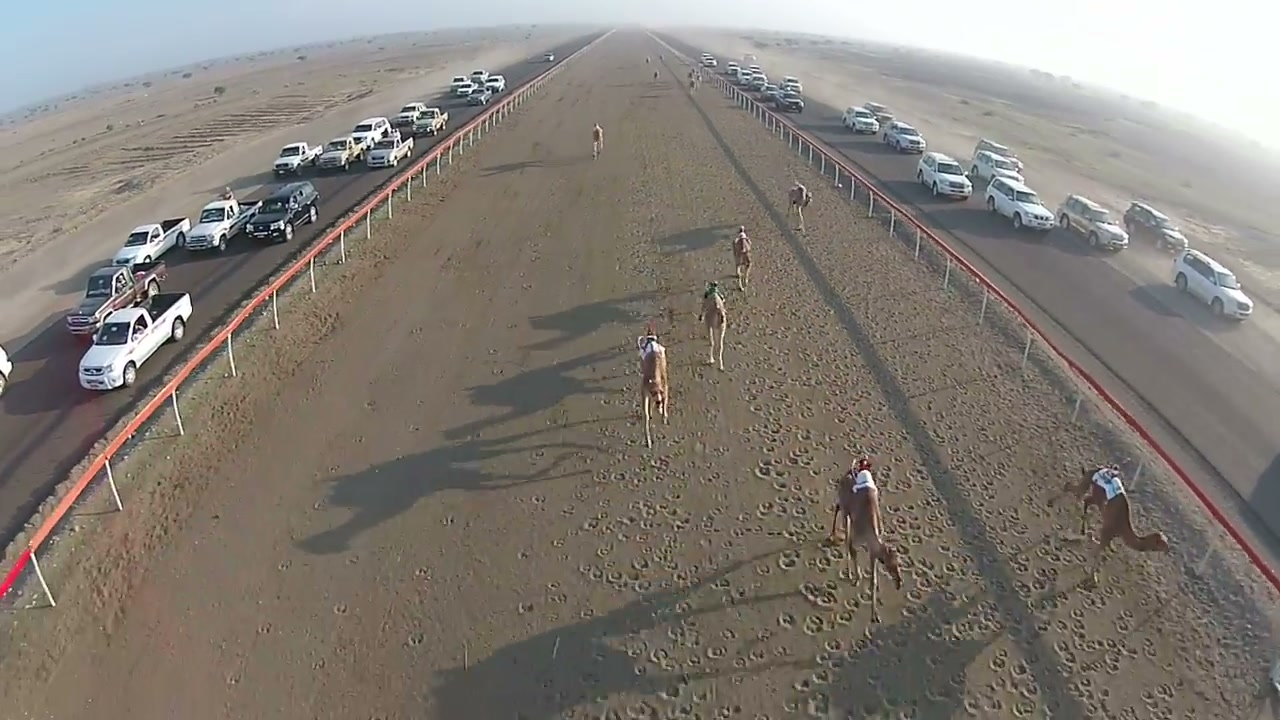animal_footprint: (800, 233, 1100, 709), (589, 360, 822, 711)
